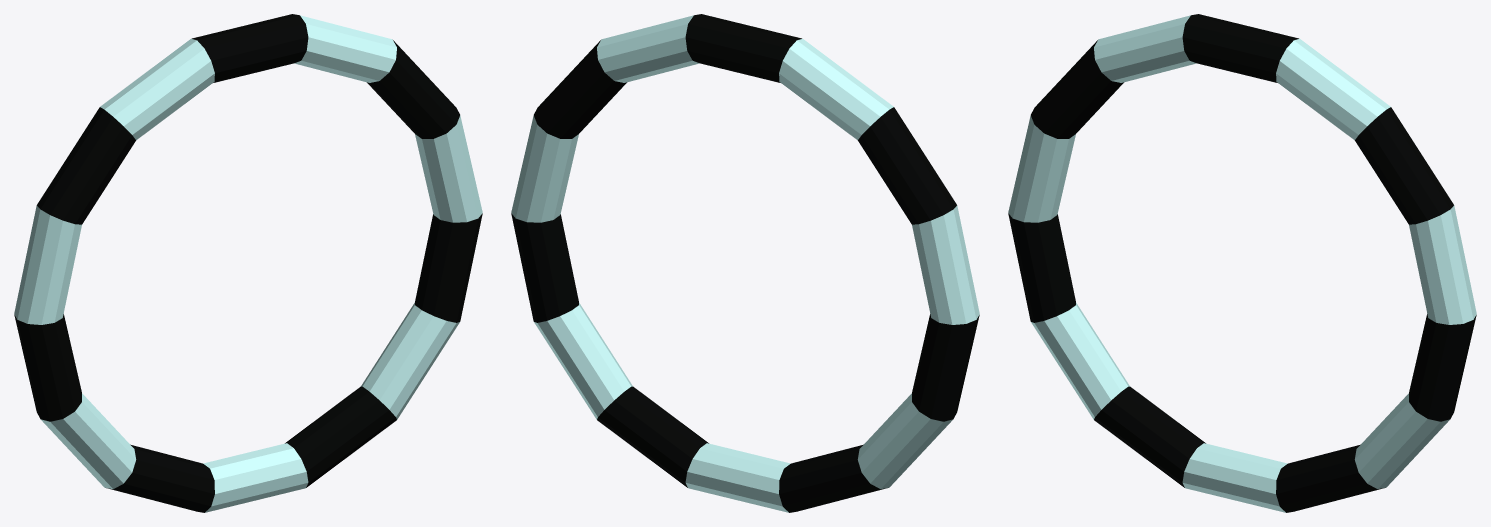
File: Çember4.fbx
The picture shows the model from 3 angles, left to right: view 1: azimuth 30°, elevation 25°; view 2: azimuth 150°, elevation 25°; view 3: azimuth 330°, elevation 25°; orthographic projection.
Parts seen in each view (by area): view 1: Torus.002; view 2: Torus.002; view 3: Torus.002.
Boxes of the visible parts, x1,y1,x2,y2 form: Torus.002: [14, 14, 482, 512]; Torus.002: [511, 14, 979, 512]; Torus.002: [1008, 14, 1476, 512].
Size of the model in its own units: 448 by 437 by 41.57.
